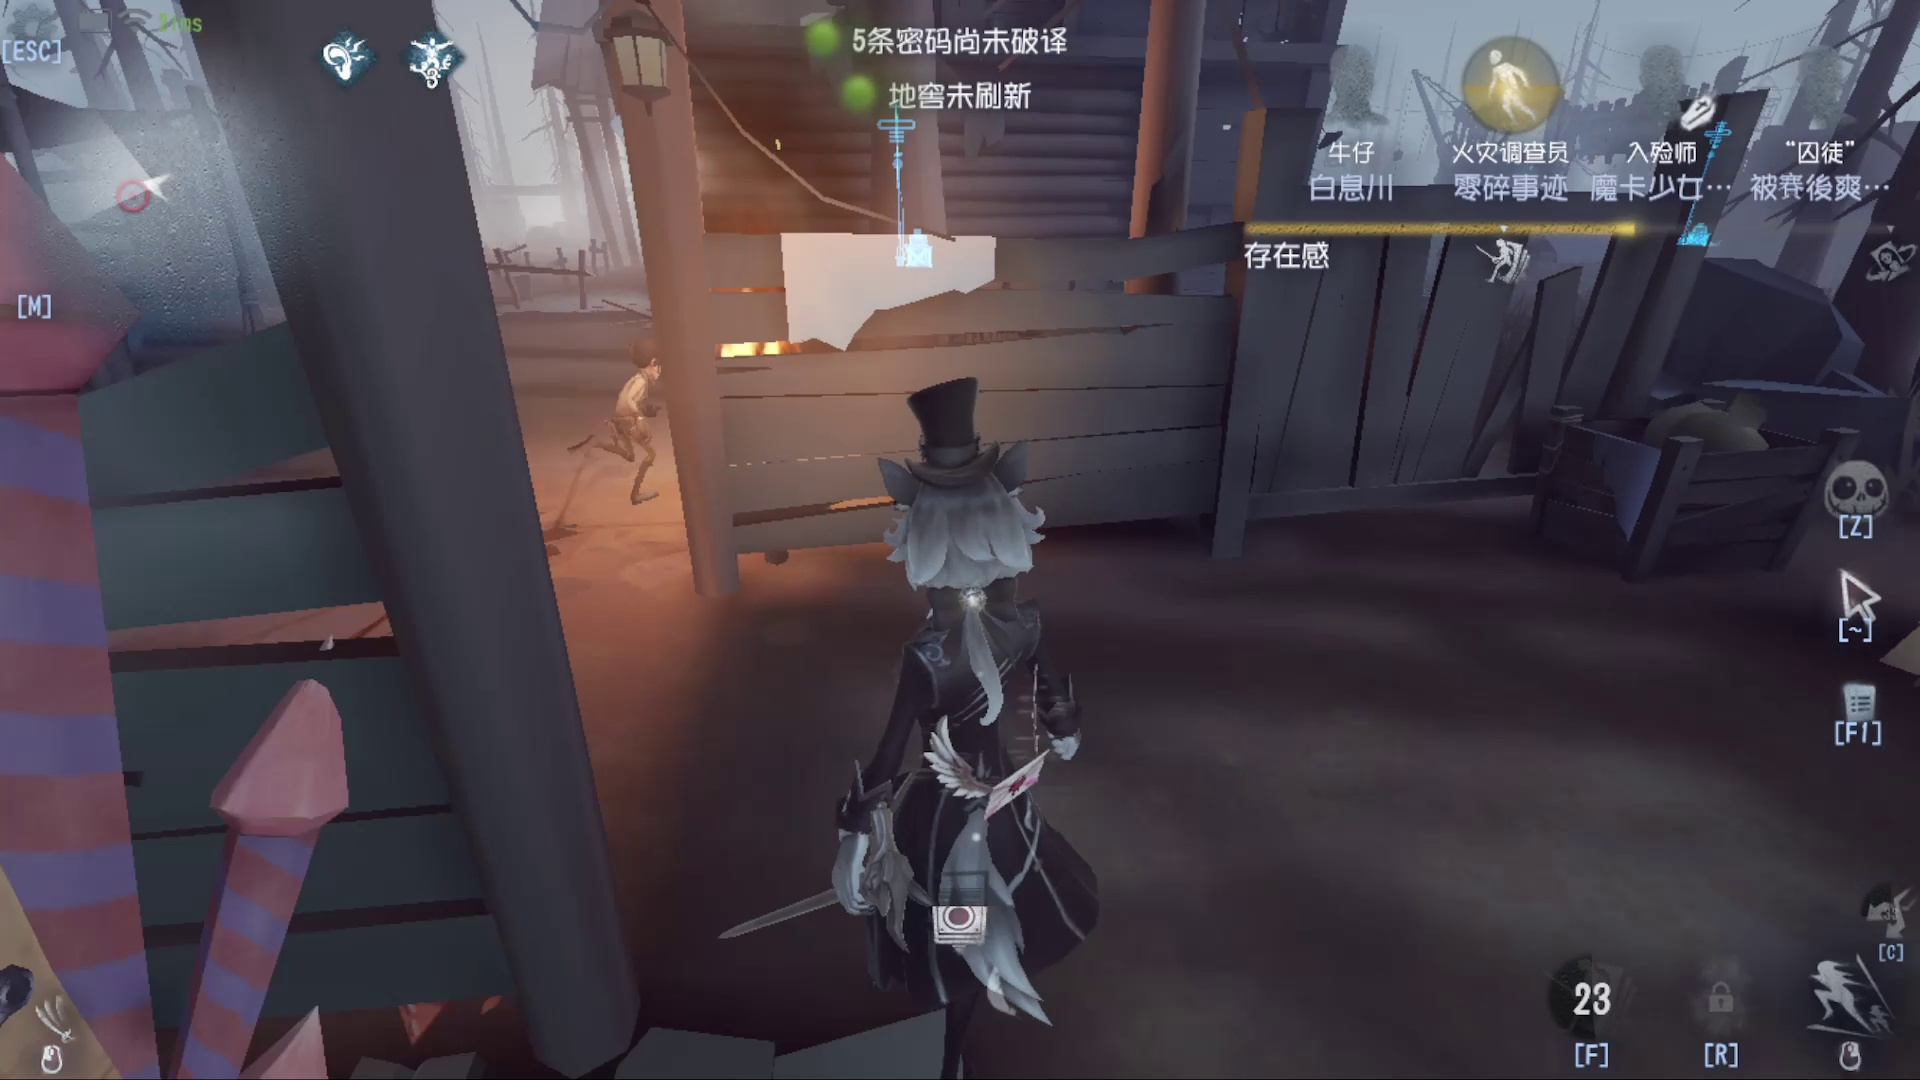密码机: (858, 99, 965, 295)
求生者: (574, 311, 695, 516)
